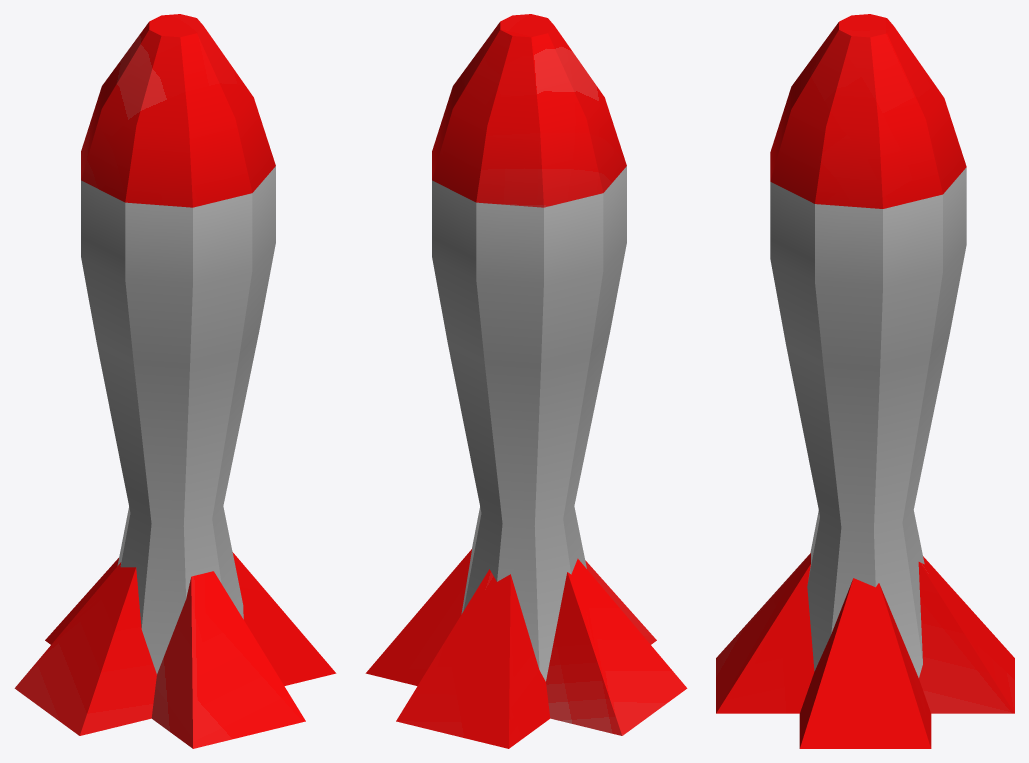
File: Rocket.fbx
3 renders of one model, left to right at view 1: azimuth 30°, elevation 25°; view 2: azimuth 150°, elevation 25°; view 3: azimuth 270°, elevation 25°, orthographic.
Parts seen in each view (by area): view 1: Plane; view 2: Plane; view 3: Plane.
Boxes of the visible parts, left/top/right/bottom form: Plane: left=14, top=14, right=336, bottom=748; Plane: left=365, top=14, right=687, bottom=748; Plane: left=716, top=14, right=1014, bottom=748.
Bounding box in the file's own units: 357 × 871 × 357.
Materials: 1 (1 with a texture image).
